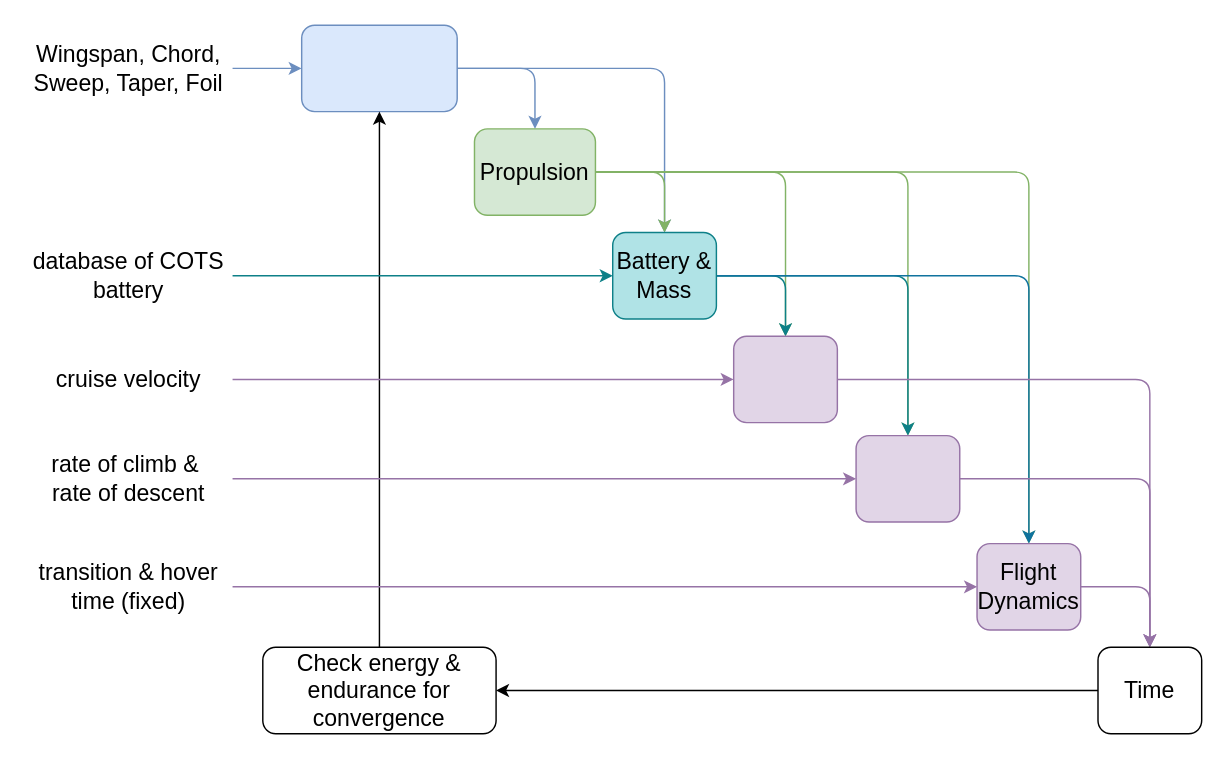
Some shapes in this 1227 by 759 pixel diagram are drawn without their labels. The shapes that lost their labels are listed below. From the top down, each one's box as (x1, y1, x2, y2) in pixels, then its label:
(300, 24, 457, 112): Aerodynamics
(732, 335, 837, 423): Cruise
(855, 434, 960, 522): Ascend/ Descend
